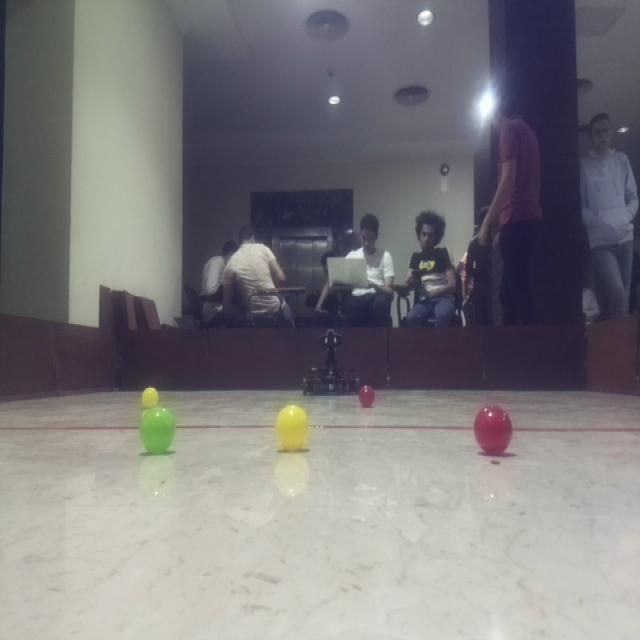ball: (471, 401, 515, 458), (273, 399, 314, 455), (138, 403, 178, 458), (138, 383, 162, 408), (356, 382, 377, 407)
